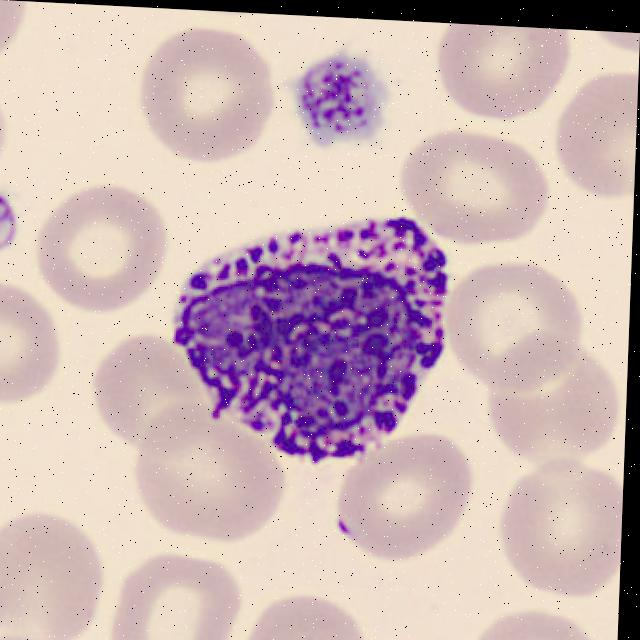basophil: (161, 217, 450, 472)
platelets: (285, 56, 410, 157), (0, 187, 38, 261)
rbc: (120, 14, 288, 183), (118, 405, 287, 550), (437, 249, 598, 399), (400, 111, 560, 257), (488, 321, 629, 472), (496, 444, 625, 605), (339, 440, 478, 566), (40, 179, 170, 309), (429, 22, 571, 125), (0, 510, 107, 640), (89, 329, 209, 439), (559, 67, 639, 211), (112, 550, 240, 640), (0, 273, 79, 407), (251, 580, 391, 640), (464, 610, 605, 640), (343, 628, 449, 640)
